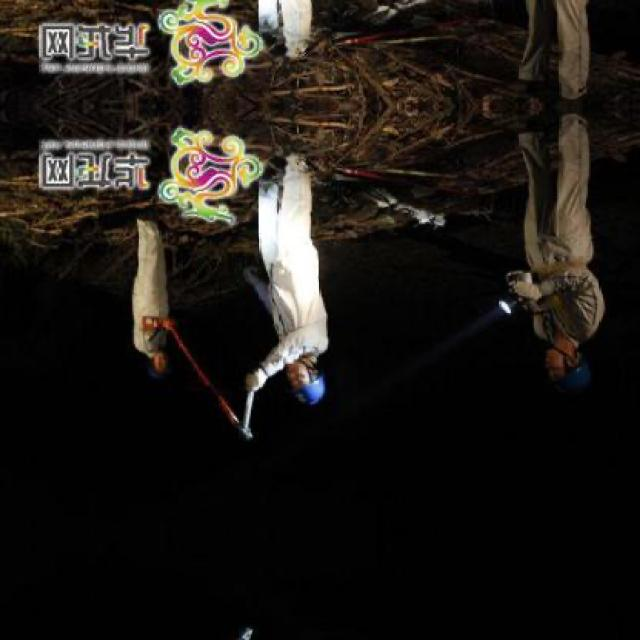con casco: (257, 342, 351, 428)
